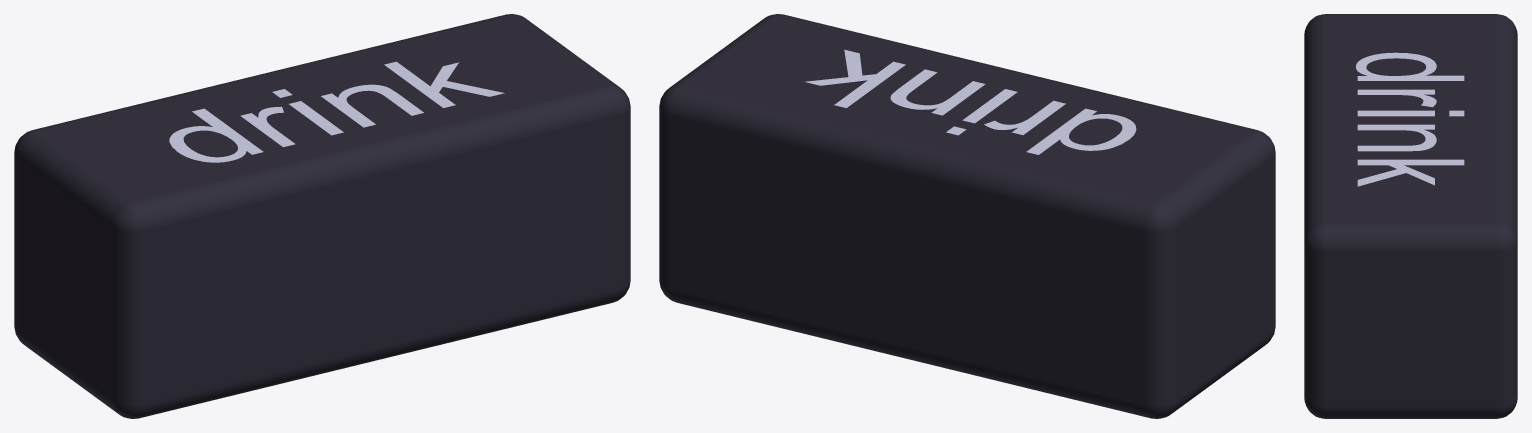
File: drink.glb
The picture shows the model from 3 angles, left to right: view 1: azimuth 30°, elevation 25°; view 2: azimuth 150°, elevation 25°; view 3: azimuth 270°, elevation 25°; orthographic projection. The views are drawn at different scales.
Visible parts, largest first — view 1: Cut, Extrude; view 2: Cut, Extrude; view 3: Cut, Extrude.
Part boxes in pixels (bbox=[...]): Cut: bbox=[14, 14, 630, 418]; Extrude: bbox=[169, 61, 504, 162]; Cut: bbox=[659, 14, 1275, 418]; Extrude: bbox=[804, 49, 1136, 154]; Cut: bbox=[1304, 14, 1517, 418]; Extrude: bbox=[1356, 52, 1464, 186].
Size of the model in its own units: 5 by 2 by 2.
